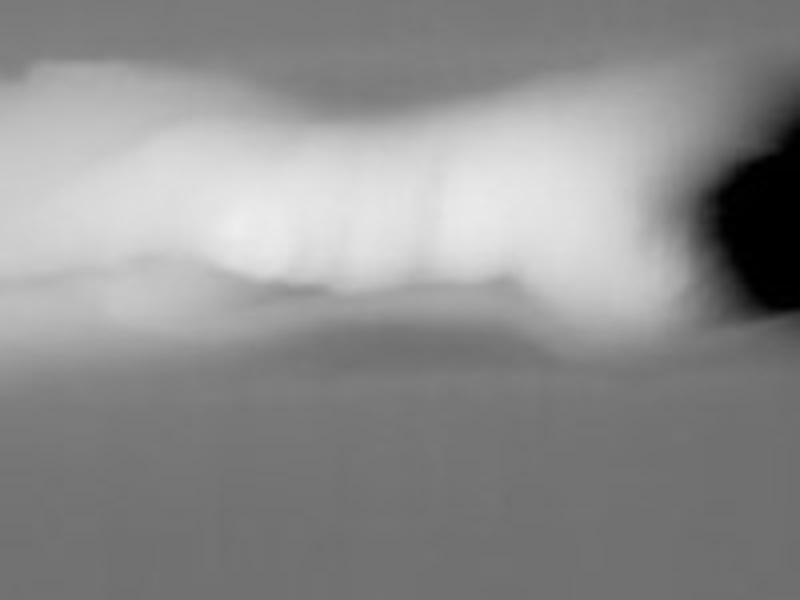defect: (704, 110, 800, 309)
